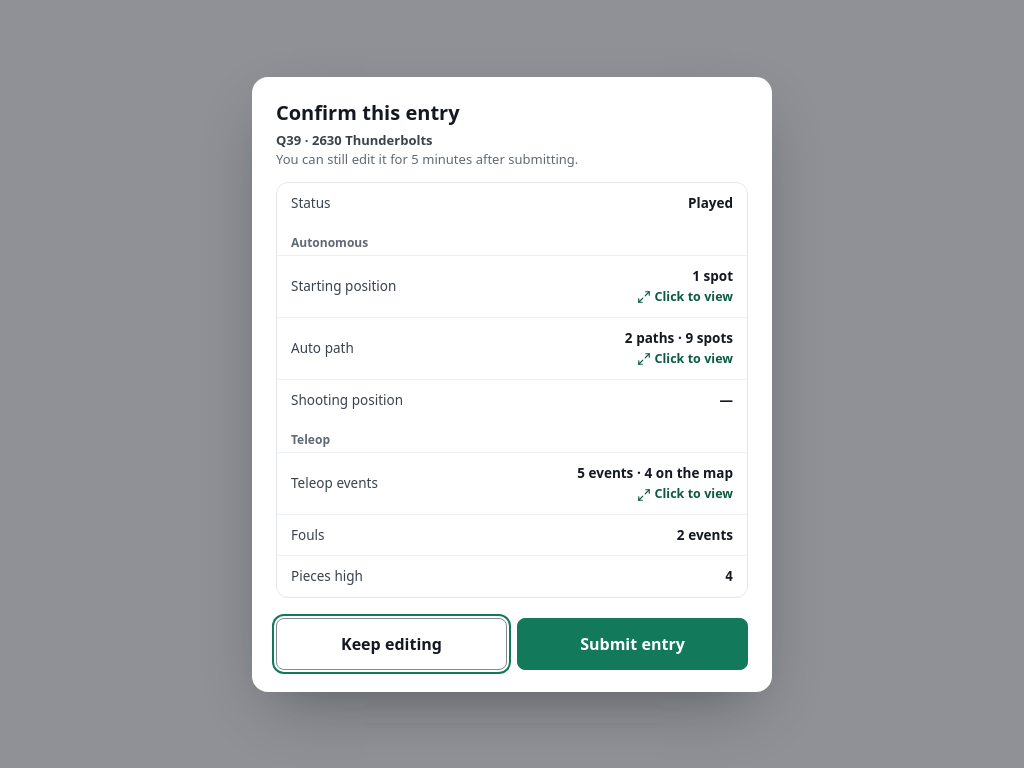
it: ConfirmEntry: the map, view only (UF.24) › opens the event log view only: no tools, a View only tag, the station, numbered spots
The width and height of the screenshot is (1024, 768).
Click the button with aria-label "Teleop events: 5 events · 4 on the map".
click(334, 483)  # box [277,453,747,514]
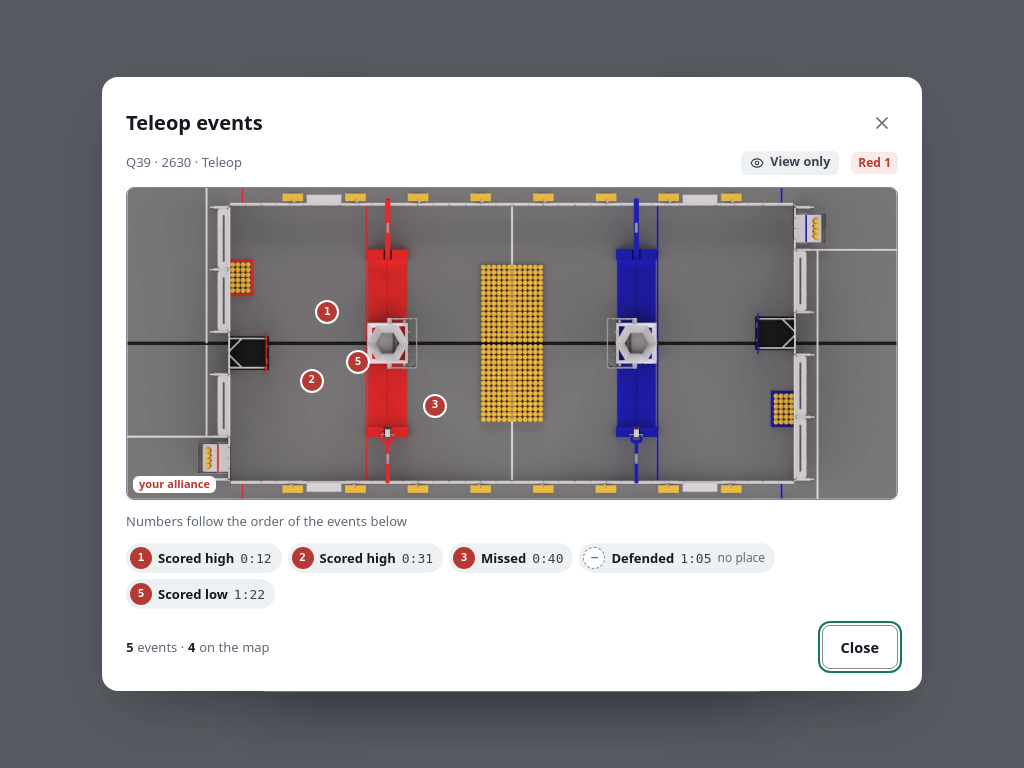
Expected: the dialog "Teleop events" shows "Q39 · 2630 · Teleop", [126,153,242,171]
Expected: the text "View only" is shown, [741,150,839,174]
Expected: the text "Red 1" is shown, [851,152,898,174]
